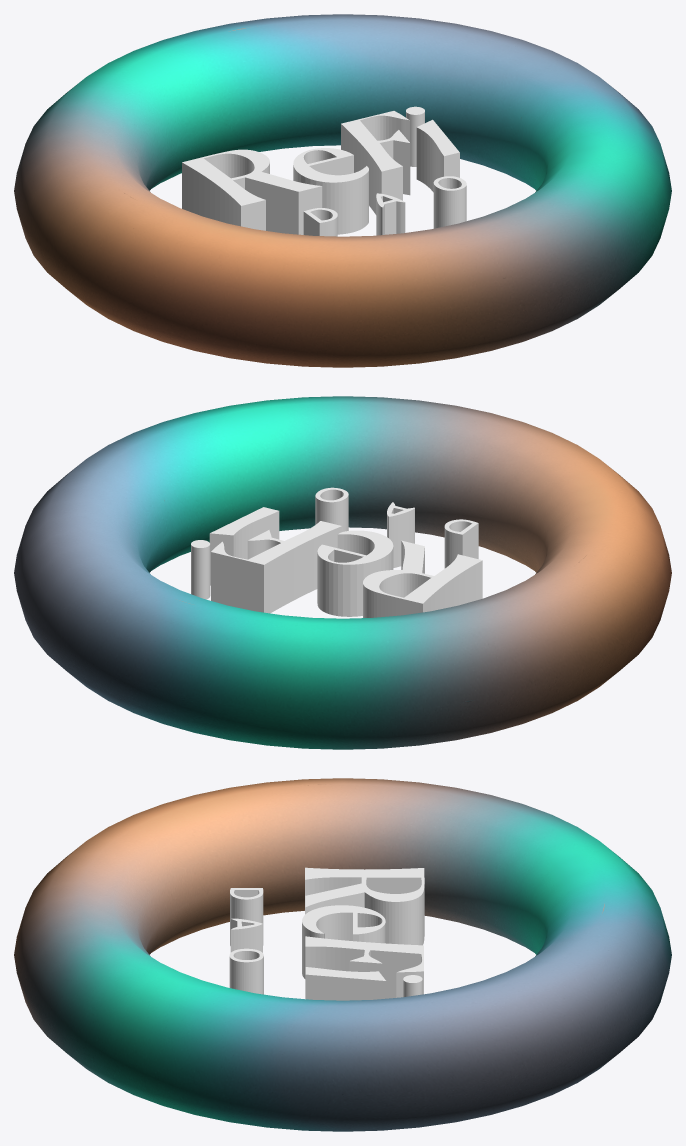
The model's file is refi.glb.
The picture shows the model from 3 angles, top to bottom: view 1: azimuth 30°, elevation 25°; view 2: azimuth 150°, elevation 25°; view 3: azimuth 270°, elevation 25°; orthographic projection.
Visible parts, largest first — view 1: Torus, Curve.007; view 2: Torus, Curve.007; view 3: Torus, Curve.007.
Part boxes in pixels (x1,y1,x2,y2): Torus: (14, 14, 671, 367); Curve.007: (182, 106, 466, 236); Torus: (14, 396, 671, 749); Curve.007: (191, 487, 482, 617); Torus: (14, 778, 671, 1131); Curve.007: (229, 867, 424, 1000).
Bounding box in the file's own units: 0.8 × 0.16 × 0.8.
2 materials, 1 textured.
